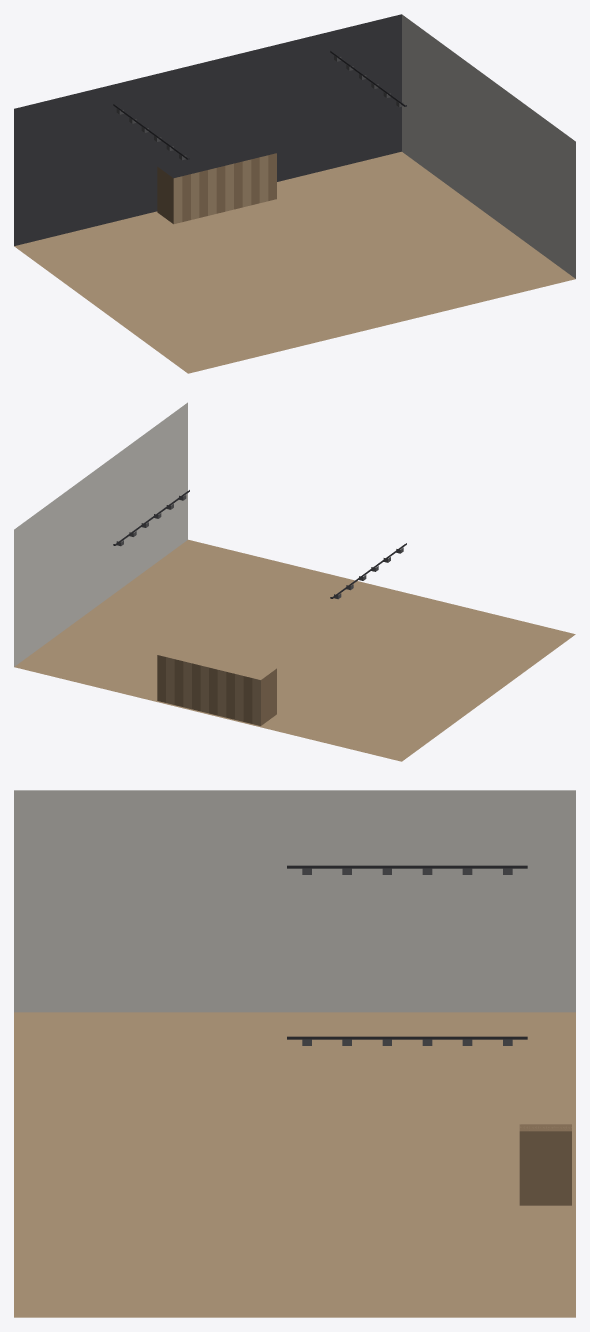
File: boutique_shell.glb
3 views of the same model, one above another, from view 1: azimuth 30°, elevation 25°; view 2: azimuth 150°, elevation 25°; view 3: azimuth 270°, elevation 25° (orthographic). The views are drawn at different scales.
Visible parts, largest first — view 1: boutique_shell; view 2: boutique_shell; view 3: boutique_shell.
Boxes of the visible parts, x1,y1,x2,y2 form: boutique_shell: [14, 14, 575, 373]; boutique_shell: [14, 402, 575, 761]; boutique_shell: [14, 790, 575, 1317].
Bounding box in the file's own units: 9 × 3.05 × 7.
